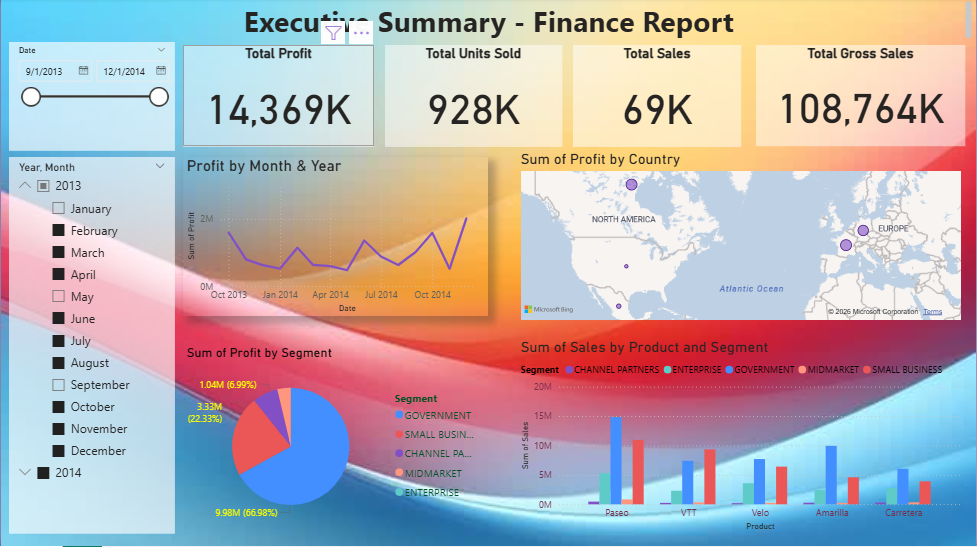

The dashboard page shown, as its layout file describes it:
{"tool":"powerbi","page":{"name":"Page 1","canvas":[1280,720],"ordinal":0},"visuals":[{"type":"textbox","box":[9.6,0,1271,57.6],"z":0},{"type":"lineChart","title":"Profit by Month & Year","fields":{"Category":["Calender.Date"],"Y":["Sum(financials.Profit)"]},"box":[238.8,208.8,401.2,208.8],"z":1000},{"type":"pieChart","fields":{"Category":["financials.Segment"],"Y":["Sum(financials.Profit)"]},"box":[238.8,456.2,401.2,247.5],"z":2000},{"type":"map","fields":{"Category":["financials.Country"],"Size":["Sum(financials.Profit)"]},"box":[677.5,200,602.5,228.8],"z":3000},{"type":"clusteredColumnChart","fields":{"Category":["financials.Product"],"Series":["financials.Segment"],"Y":["Sum(financials. Sales)"]},"box":[677.5,446.2,588.8,257.5],"z":4000},{"type":"slicer","fields":{"Values":["financials.Date"]},"box":[10,57.5,217.5,142.5],"z":5000},{"type":"slicer","fields":{"Values":["Calender.Date.Variation.Date Hierarchy.Year","Calender.Date.Variation.Date Hierarchy.Month"]},"box":[10,208.8,217.5,495],"z":6000},{"type":"card","title":"Total Profit","fields":{"Values":["financials.Total Profit"]},"box":[238.8,61.2,251.2,133.8],"z":7000},{"type":"card","title":"Total Units Sold","fields":{"Values":["financials.Total Units Sold"]},"box":[505,61.2,232.5,133.8],"z":7001},{"type":"card","title":"Total Sales","fields":{"Values":["Calender.Total Sales"]},"box":[751.2,61.2,221.2,133.8],"z":7002},{"type":"card","title":"Total Gross Sales","fields":{"Values":["Calender.Total Gross Sales"]},"box":[992.5,61.2,287.5,133.8],"z":7003}]}

Visuals, with their boxes in screenshot pixels (x1, y1, x2, y2), scaled from the page's 1280x720 canvas onto the 977x547 screenshot:
textbox: crop(7, 0, 976, 44)
"Profit by Month & Year" lineChart: crop(182, 159, 488, 317)
pieChart - financials.Segment x Sum(financials.Profit): crop(182, 347, 488, 535)
map - financials.Country x Sum(financials.Profit): crop(517, 152, 976, 326)
clusteredColumnChart - financials.Product x financials.Segment: crop(517, 339, 967, 535)
slicer - financials.Date: crop(8, 44, 174, 152)
slicer - Calender.Date.Variation.Date Hierarchy.Year x Calender.Date.Variation.Date Hierarchy.Month: crop(8, 159, 174, 535)
"Total Profit" card: crop(182, 46, 374, 148)
"Total Units Sold" card: crop(385, 46, 563, 148)
"Total Sales" card: crop(573, 46, 742, 148)
"Total Gross Sales" card: crop(758, 46, 976, 148)
